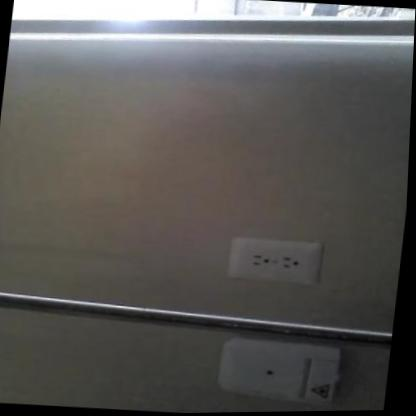OUTLET: (227, 236, 324, 285)
